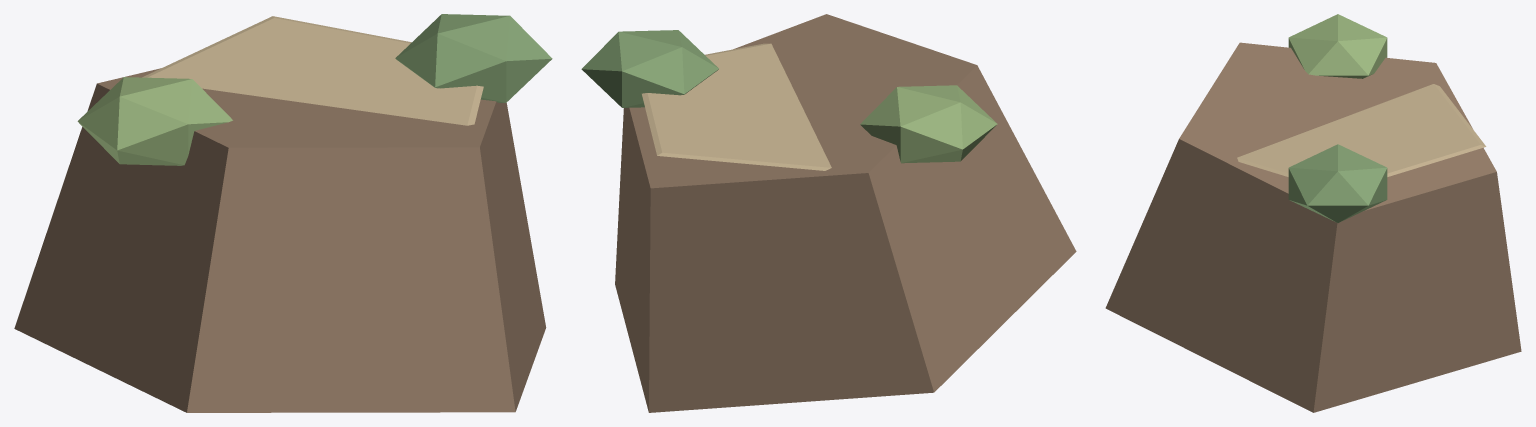
3 views of the same model, side by side, from view 1: azimuth 30°, elevation 25°; view 2: azimuth 150°, elevation 25°; view 3: azimuth 270°, elevation 25° (orthographic). The views are drawn at different scales.
Visible parts, largest first — view 1: Body; view 2: Body; view 3: Body.
Boxes of the visible parts, box(x1,y1,x2,y2) form: Body: box(14, 14, 552, 412); Body: box(581, 14, 1076, 412); Body: box(1105, 14, 1521, 412).
Bounding box in the file's own units: 1.3 × 0.8979 × 1.36.
